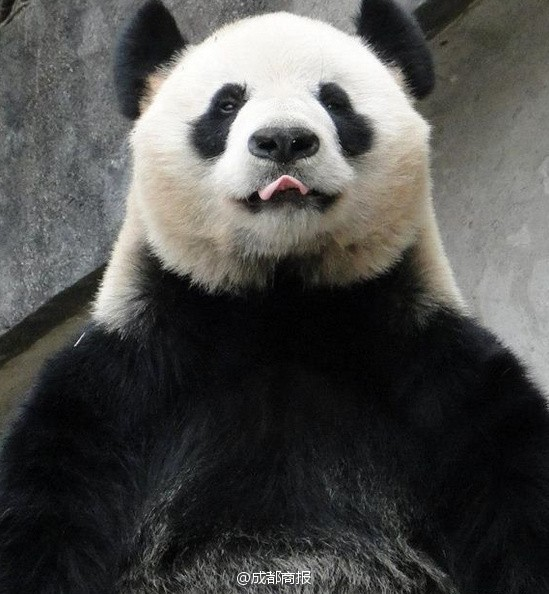panda: (1, 2, 547, 593)
